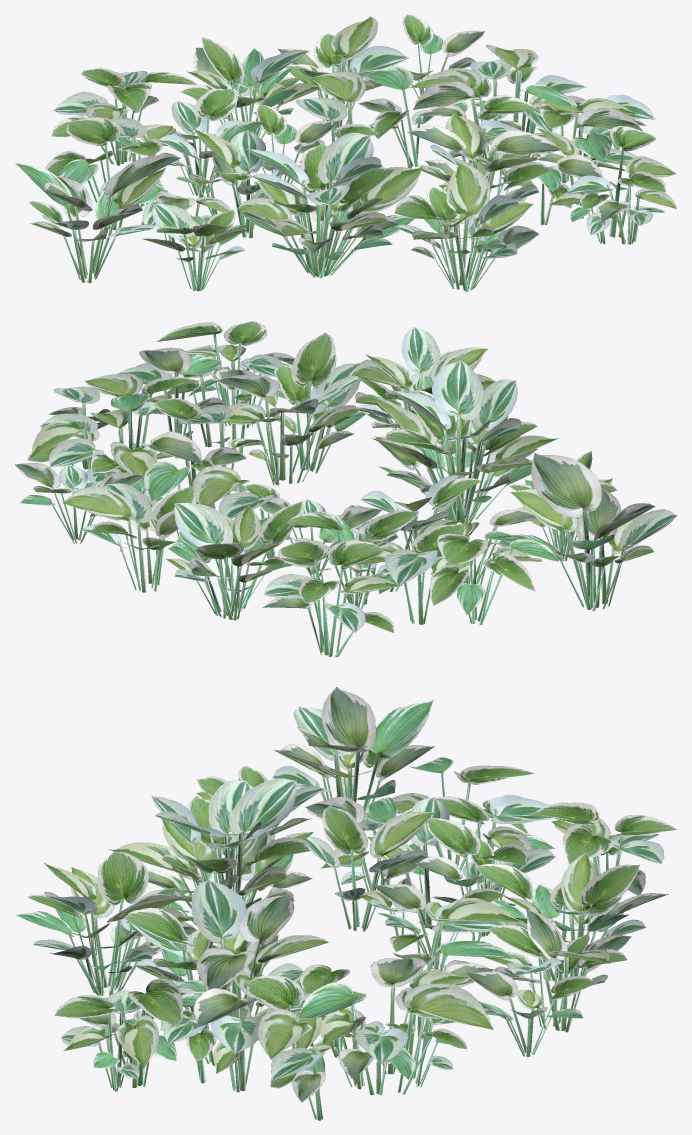
File: cluster_plant_small_wg_00.fbx
The picture shows the model from 3 angles, top to bottom: view 1: azimuth 30°, elevation 25°; view 2: azimuth 150°, elevation 25°; view 3: azimuth 270°, elevation 25°; orthographic projection. The views are drawn at different scales.
Parts seen in each view (by area): view 1: cluster_plant_small_wg_00; view 2: cluster_plant_small_wg_00; view 3: cluster_plant_small_wg_00.
Part boxes in pixels (x1,y1,x2,y2): cluster_plant_small_wg_00: (15,14,676,291); cluster_plant_small_wg_00: (15,321,677,657); cluster_plant_small_wg_00: (15,687,677,1120).
Size of the model in its own units: 300 by 58.35 by 247.
